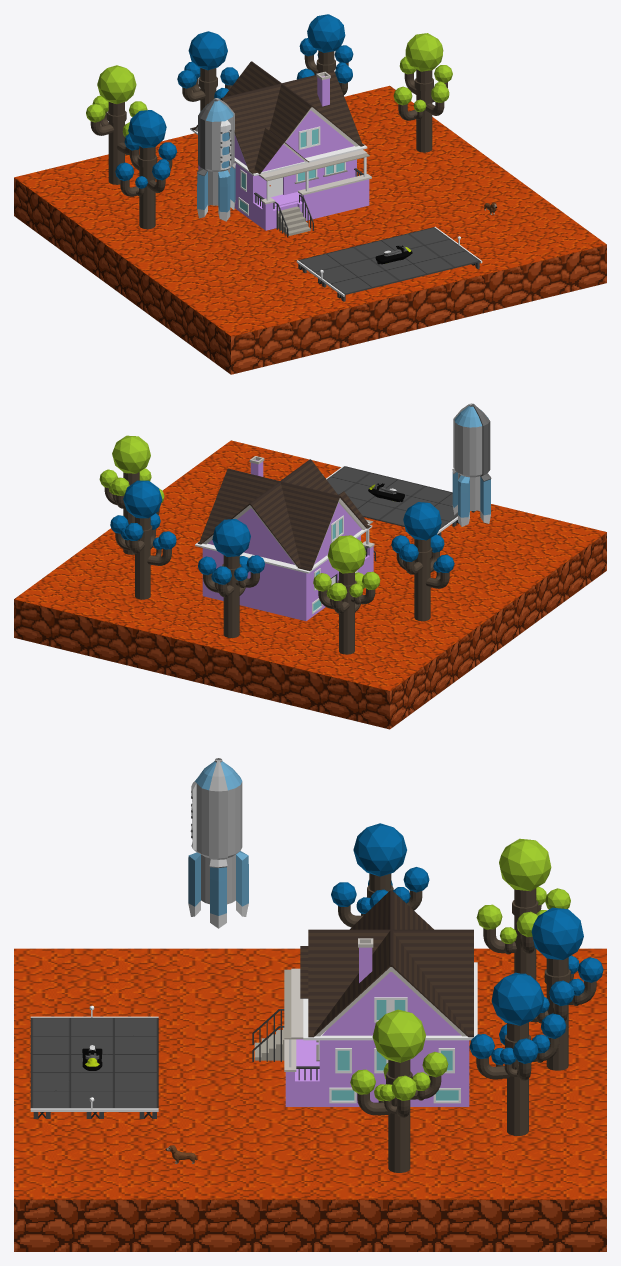
The picture shows the model from 3 angles, top to bottom: view 1: azimuth 30°, elevation 25°; view 2: azimuth 150°, elevation 25°; view 3: azimuth 270°, elevation 25°; orthographic projection. The views are drawn at different scales.
Visible parts, largest first — view 1: Cube.001, Cube.391, OBJRANDOM_ROCKETSHIP; view 2: Cube.001, Cube.391, OBJRANDOM_ROCKETSHIP; view 3: Cube.001, Cube.391, OBJRANDOM_ROCKETSHIP.
Boxes of the visible parts, left/top/right/bottom form: Cube.001: left=14, top=14, right=606, bottom=374; Cube.391: left=190, top=61, right=371, bottom=237; OBJRANDOM_ROCKETSHIP: left=197, top=98, right=235, bottom=221; Cube.001: left=14, top=435, right=606, bottom=729; Cube.391: left=195, top=456, right=375, bottom=621; OBJRANDOM_ROCKETSHIP: left=452, top=403, right=491, bottom=526; Cube.001: left=14, top=823, right=606, bottom=1251; Cube.391: left=252, top=890, right=477, bottom=1106; OBJRANDOM_ROCKETSHIP: left=188, top=758, right=248, bottom=928.
Size of the model in its own units: 4000 by 2175 by 4000.
Materials: 32 (4 with a texture image).
